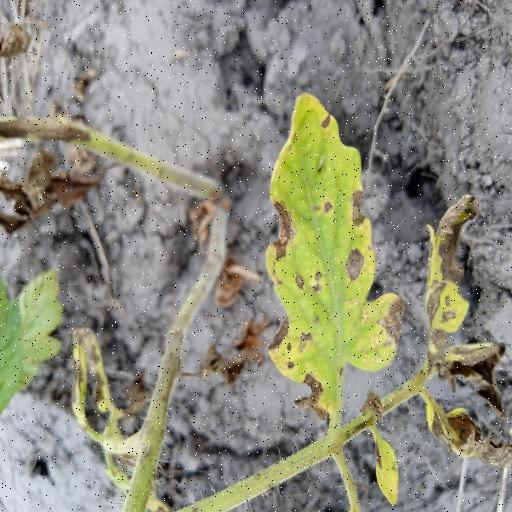Tomato_Brown_Spots: (259, 84, 404, 405)
